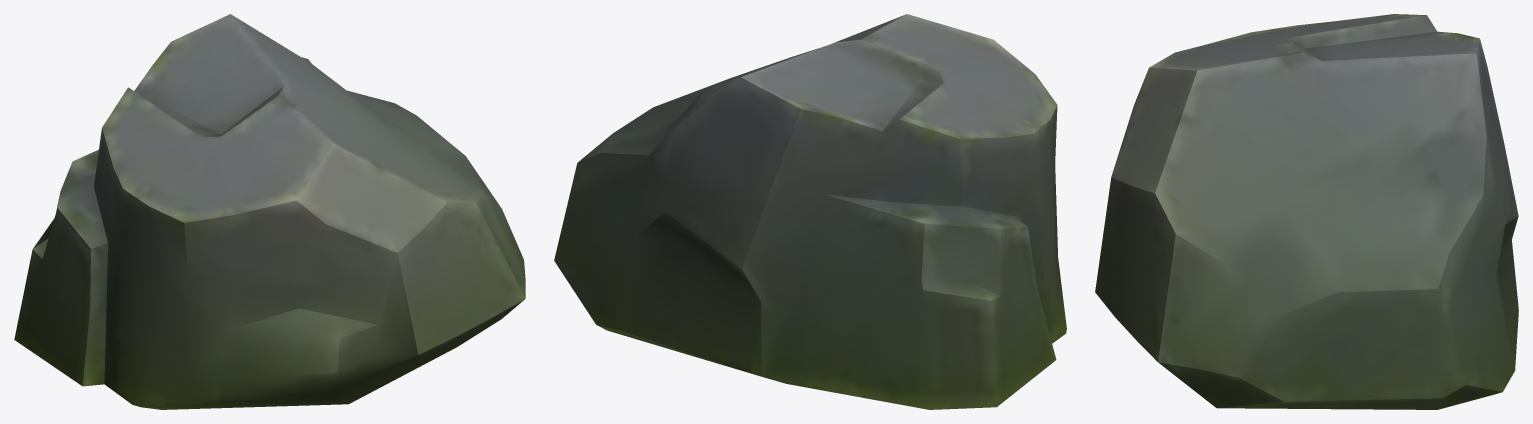
The model's file is Rock_Medium_2.glb.
3 views of the same model, side by side, from view 1: azimuth 30°, elevation 25°; view 2: azimuth 150°, elevation 25°; view 3: azimuth 270°, elevation 25° (orthographic). The views are drawn at different scales.
Visible parts, largest first — view 1: Rock_Medium_2; view 2: Rock_Medium_2; view 3: Rock_Medium_2.
Boxes of the visible parts, box(x1,y1,x2,y2) form: Rock_Medium_2: box(14, 14, 525, 409); Rock_Medium_2: box(554, 14, 1066, 409); Rock_Medium_2: box(1095, 14, 1518, 409).
Bounding box in the file's own units: 3.05 × 1.9 × 2.48.
Materials: 1 (1 with a texture image).
